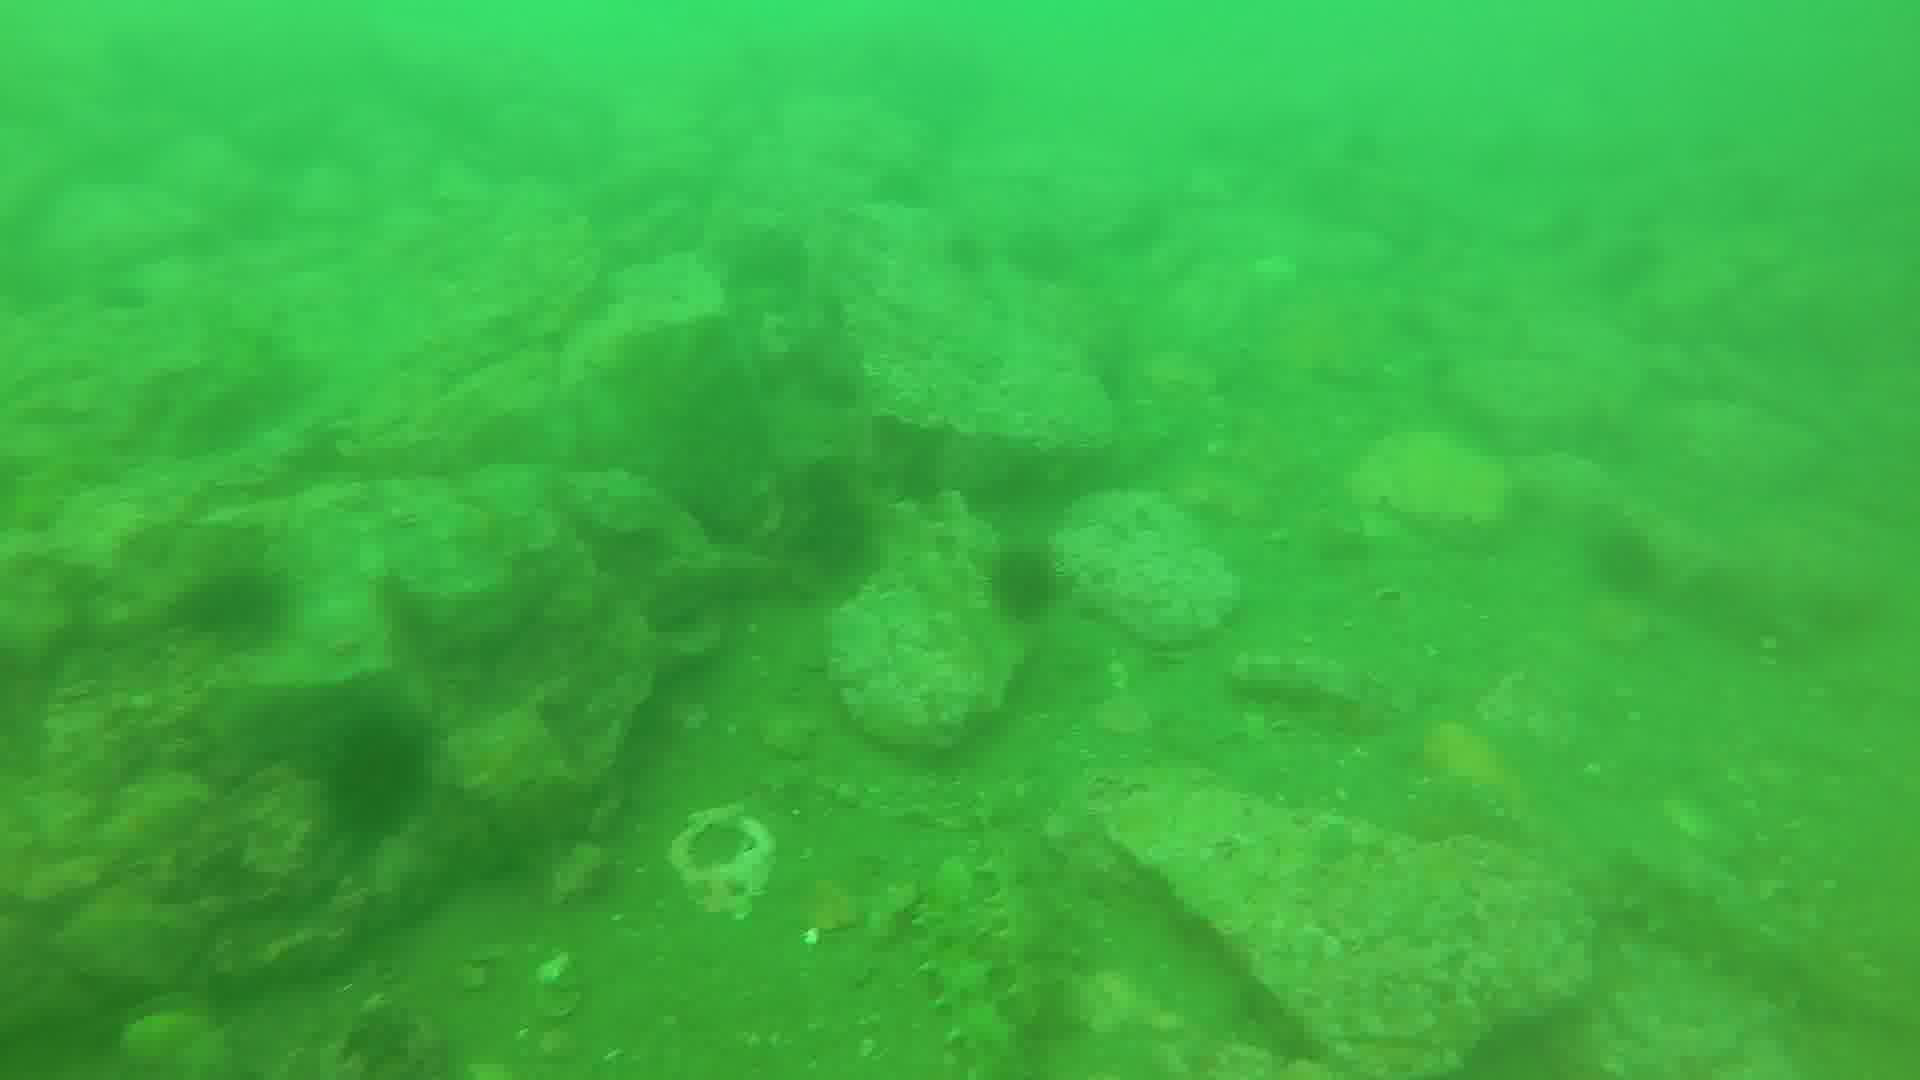echinus: (331, 725, 448, 831), (202, 574, 287, 657), (996, 545, 1081, 625), (803, 498, 877, 574), (1604, 520, 1662, 593)
holothurian: (1601, 835, 1859, 1021), (910, 855, 1022, 1080), (985, 815, 1095, 1029)
